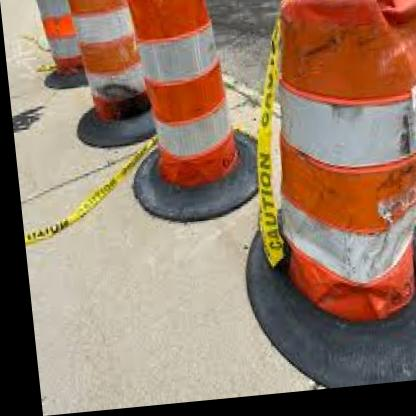obstacle: (250, 0, 416, 331), (131, 0, 227, 194)
